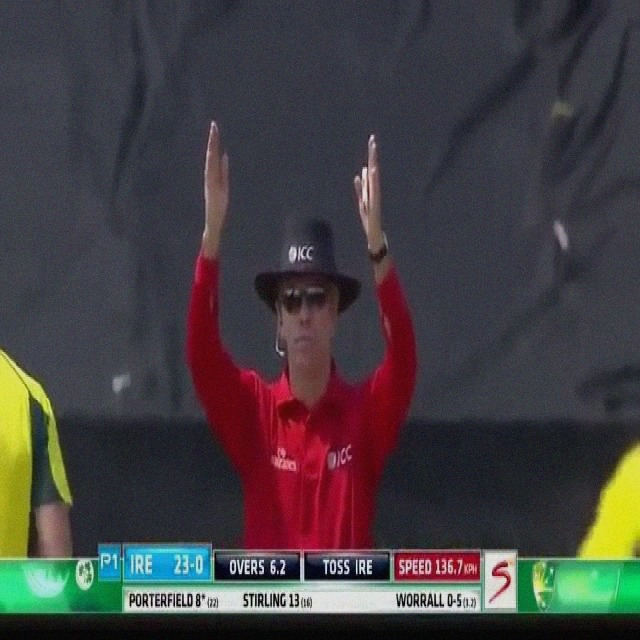Six: (182, 100, 417, 555)
